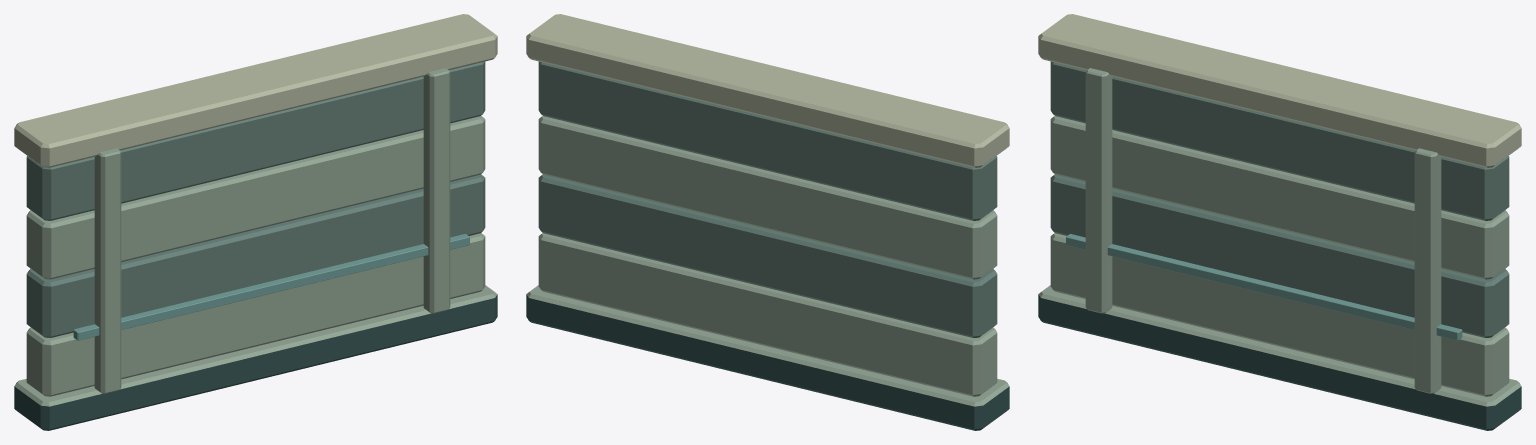
The model's file is platform-edge.glb.
The picture shows the model from 3 angles, left to right: view 1: azimuth 30°, elevation 25°; view 2: azimuth 150°, elevation 25°; view 3: azimuth 330°, elevation 25°; orthographic projection.
Parts seen in each view (by area): view 1: platform-edge__body; view 2: platform-edge__body; view 3: platform-edge__body.
Boxes of the visible parts, x1,y1,x2,y2 form: platform-edge__body: (14,14,497,430); platform-edge__body: (526,14,1009,430); platform-edge__body: (1038,14,1521,430).
Size of the model in its own units: 2 by 1.2 by 0.285.
